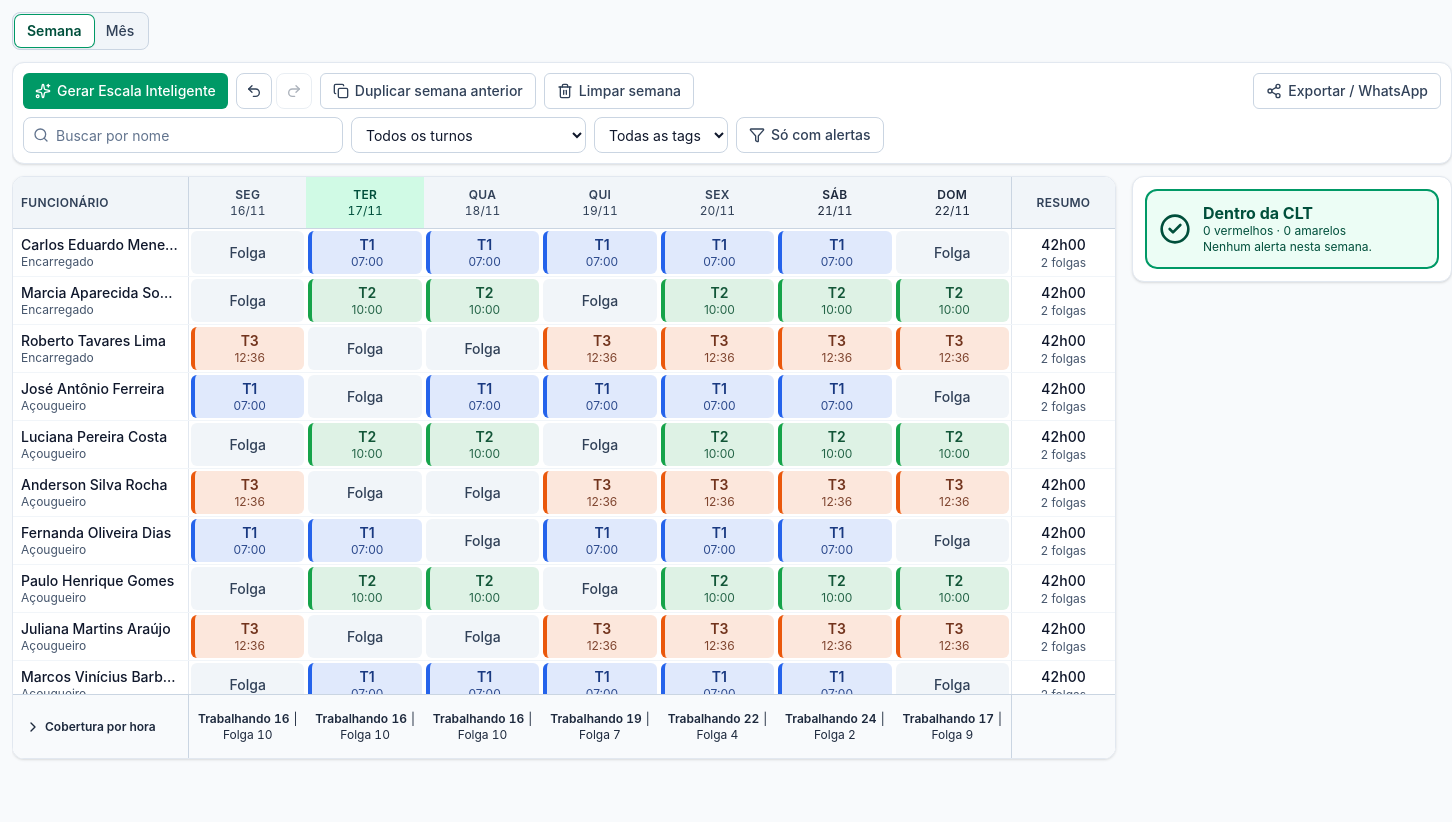
Test case: ScheduleView › só com alertas esconde todos quando a escala está verde
Click the button "Só com alertas" at point(810, 135), box [736,117,884,153]
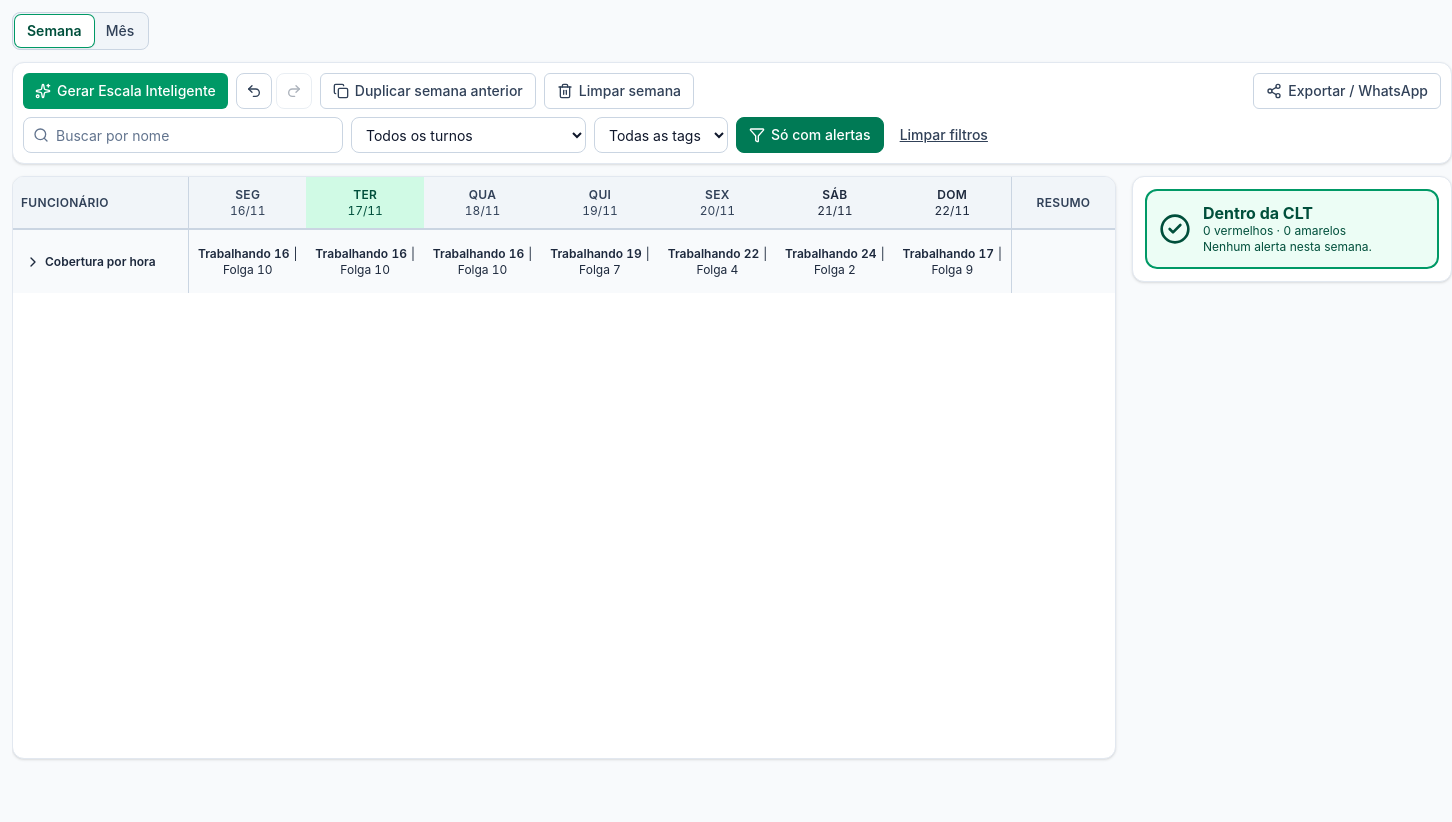
Expected: the text "Nenhum funcionário corresponde aos filtros." is shown, [416,254,712,271]
